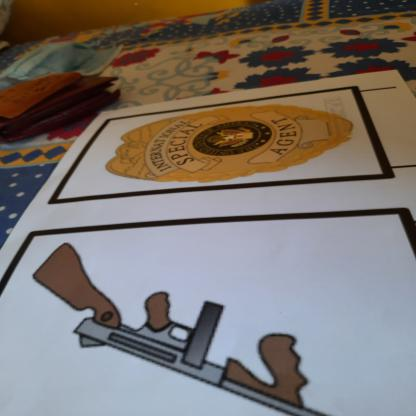Bootlegger: (29, 228, 363, 416)
G-man: (101, 104, 363, 195)
